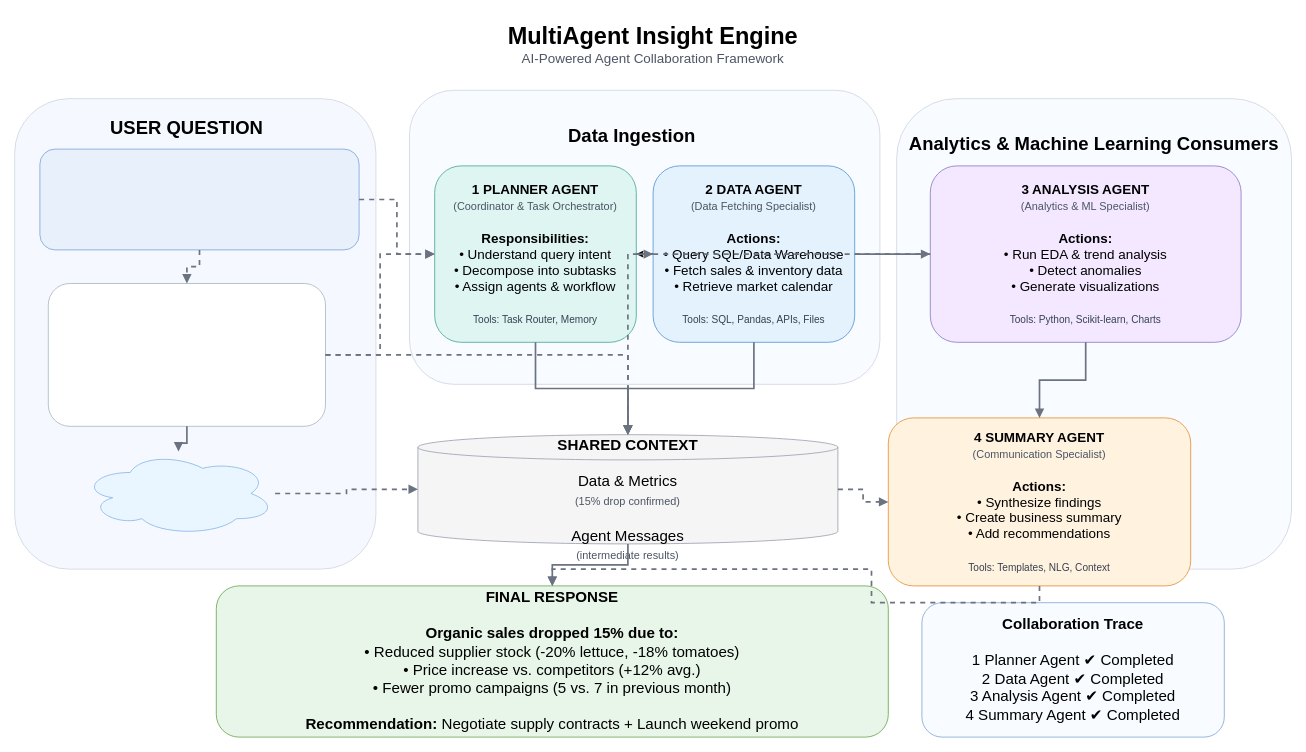
The diagram is 1306 pixels wide and 752 high, and some of its shapes have lost their labels. Each missing label, with the centre of its shape:
"Why did organic sales drop 15% last month?": (x=199, y=199)
Raw Data: (x=178, y=493)
Shared Context • Data & Metrics • Agent Messages (intermediate results): (x=186, y=354)
